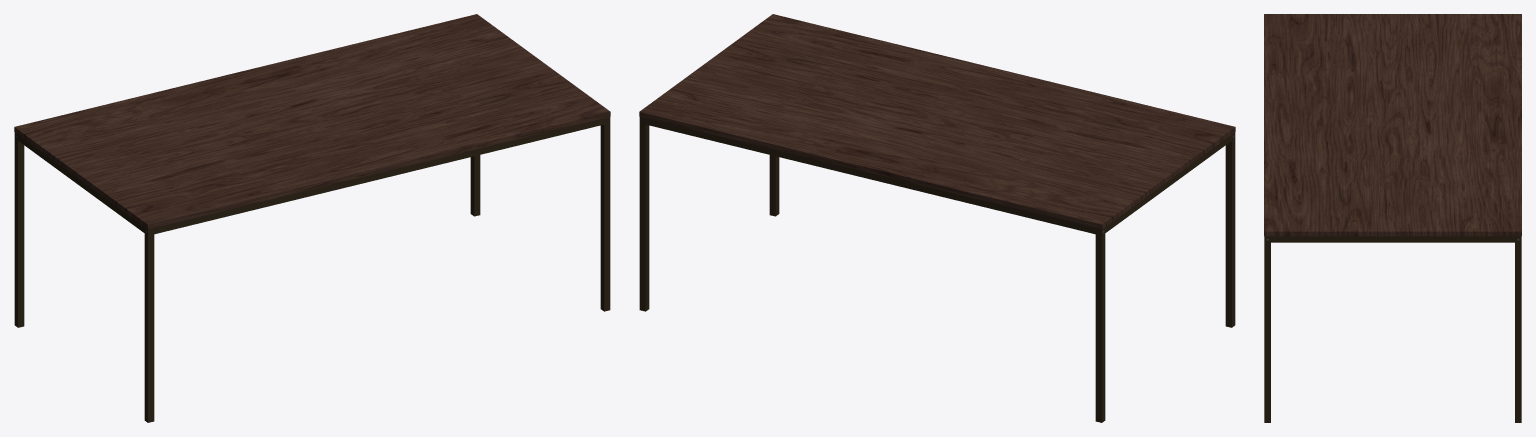
Rendered from table.glb.
The picture shows the model from 3 angles, left to right: view 1: azimuth 30°, elevation 25°; view 2: azimuth 150°, elevation 25°; view 3: azimuth 270°, elevation 25°; orthographic projection. The views are drawn at different scales.
Parts seen in each view (by area): view 1: top, Cube.001, Cube.003, Cube; view 2: top, Cube.001, Cube.002, Cube; view 3: top, Cube.
Boxes of the visible parts, left/top/right/bottom form: top: left=14, top=14, right=610, bottom=229; Cube.001: left=14, top=132, right=154, bottom=422; Cube.003: left=154, top=118, right=604, bottom=234; Cube: left=470, top=117, right=610, bottom=311; top: left=639, top=14, right=1235, bottom=229; Cube.001: left=1095, top=132, right=1235, bottom=422; Cube.002: left=645, top=118, right=1095, bottom=234; Cube: left=639, top=117, right=779, bottom=311; top: left=1264, top=14, right=1521, bottom=236; Cube: left=1264, top=236, right=1521, bottom=422.
Bounding box in the file's own units: 150 × 61.5 × 75.08.
Materials: 1 (1 with a texture image).
